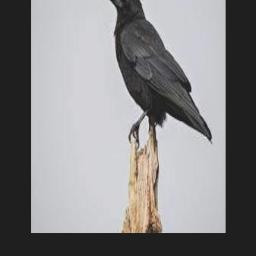Crow: (105, 0, 211, 144)
